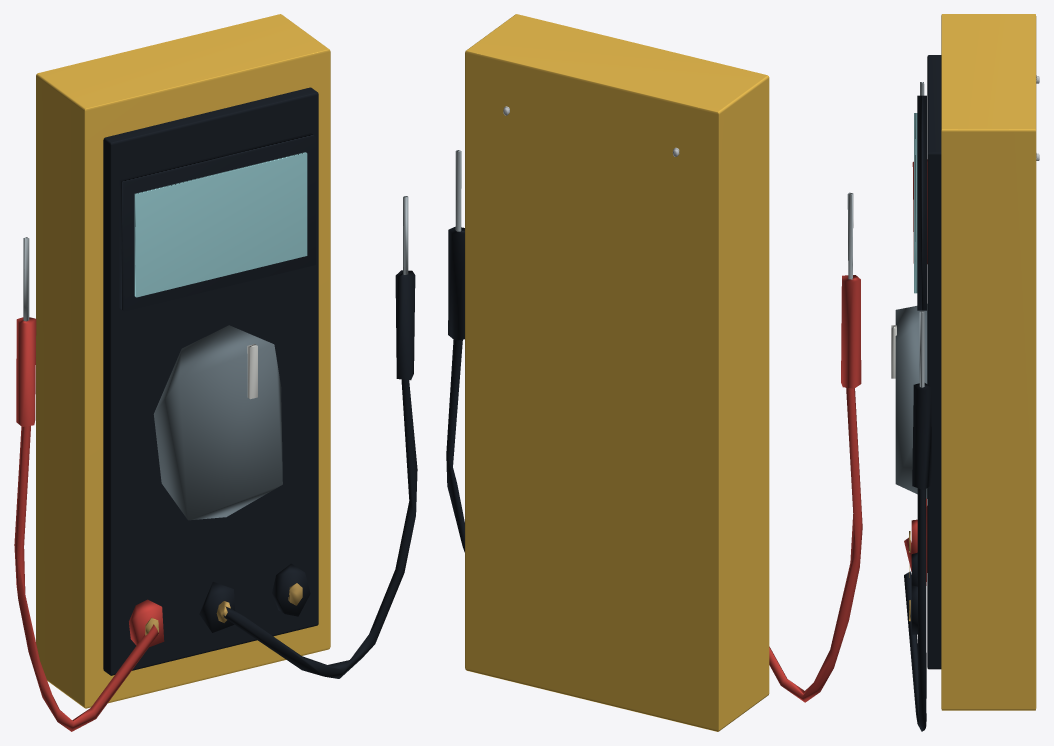
Rendered from multimeter_default.low.glb.
The picture shows the model from 3 angles, left to right: view 1: azimuth 30°, elevation 25°; view 2: azimuth 150°, elevation 25°; view 3: azimuth 270°, elevation 25°; orthographic projection. The views are drawn at different scales.
Visible parts, largest first — view 1: part:body, part:display, part:actuator, part:probes.001 · Original e5042f9d, part:probes.001 · Original 1d88398a, part:probes · Original e5042f9d, part:probes.001 · Original 480704c2, part:probes; view 2: part:body, part:probes.001 · Original 1d88398a, part:probes.001 · Original e5042f9d, part:probes.001 · Original 480704c2; view 3: part:body, part:probes.001 · Original e5042f9d, part:actuator, part:display, part:probes · Original e5042f9d, part:probes.001 · Original 480704c2, part:probes.001 · Original 1d88398a.
Boxes of the visible parts, bbox=[...] form: part:body: bbox=[36, 14, 330, 708]; part:display: bbox=[119, 133, 315, 311]; part:actuator: bbox=[153, 325, 282, 520]; part:probes.001 · Original e5042f9d: bbox=[223, 270, 417, 678]; part:probes.001 · Original 1d88398a: bbox=[14, 317, 158, 731]; part:probes · Original e5042f9d: bbox=[199, 563, 310, 632]; part:probes.001 · Original 480704c2: bbox=[23, 196, 408, 321]; part:probes: bbox=[129, 599, 164, 647]; part:body: bbox=[465, 14, 769, 731]; part:probes.001 · Original 1d88398a: bbox=[769, 275, 862, 702]; part:probes.001 · Original e5042f9d: bbox=[446, 226, 464, 552]; part:probes.001 · Original 480704c2: bbox=[455, 150, 853, 279]; part:body: bbox=[927, 14, 1036, 710]; part:probes.001 · Original e5042f9d: bbox=[904, 383, 931, 731]; part:actuator: bbox=[891, 304, 927, 498]; part:display: bbox=[914, 95, 926, 310]; part:probes · Original e5042f9d: bbox=[911, 552, 917, 634]; part:probes.001 · Original 480704c2: bbox=[919, 82, 924, 387]; part:probes.001 · Original 1d88398a: bbox=[904, 159, 927, 585].
Size of the model in its own units: 0.9036 by 1.34 by 0.2988.
